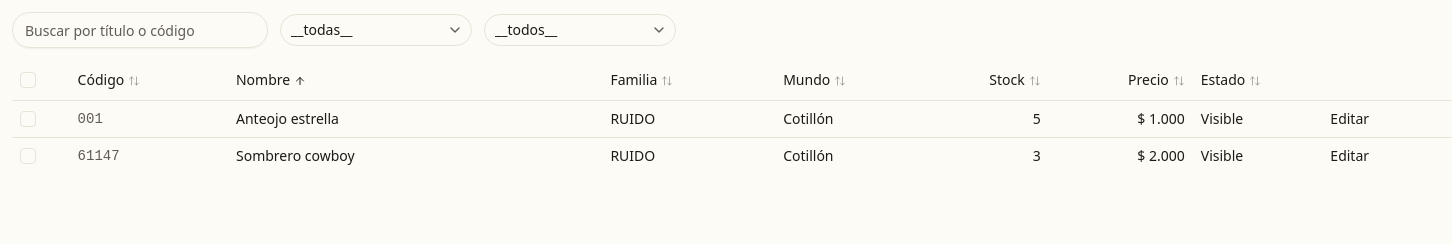
Test: PublicadoTab — selección múltiple › el checkbox del encabezado selecciona todas las filas filtradas, y vuelve a desmarcarlas
The image size is (1452, 244).
expect the row "001 Anteojo estrella RUIDO Cotillón 5 $ 1.000 Visible Editar" is shown: met, box top-left (12, 100), bottom-right (1451, 137)
Click the checkbox named "Seleccionar todos": (28, 80) top-left (20, 72), bottom-right (36, 88)
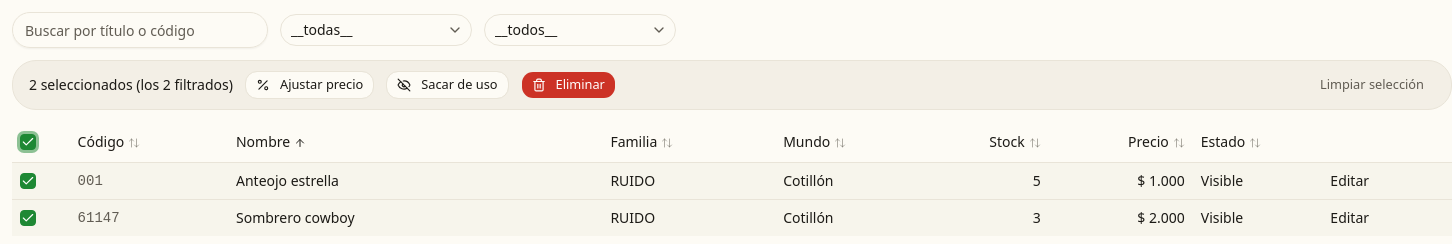
expect the text "2 seleccionados (los 2 filtrados)" is shown: met, box top-left (29, 75), bottom-right (233, 95)
Click the checkbox named "Seleccionar todos": (28, 142) top-left (20, 134), bottom-right (36, 150)
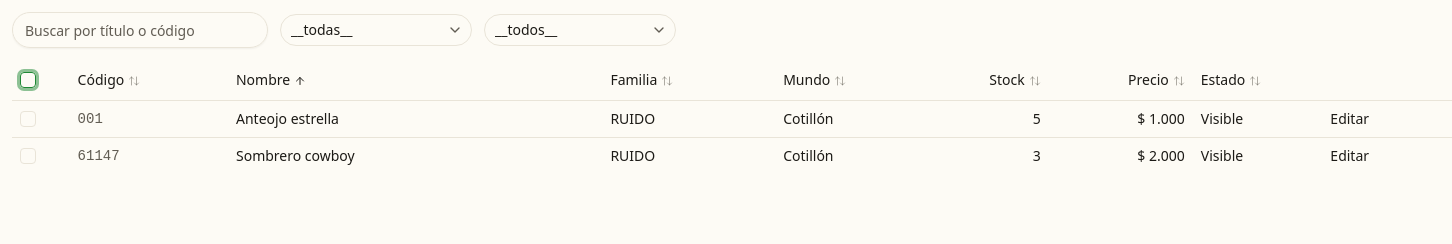
expect the text "seleccionado" is gone: met
